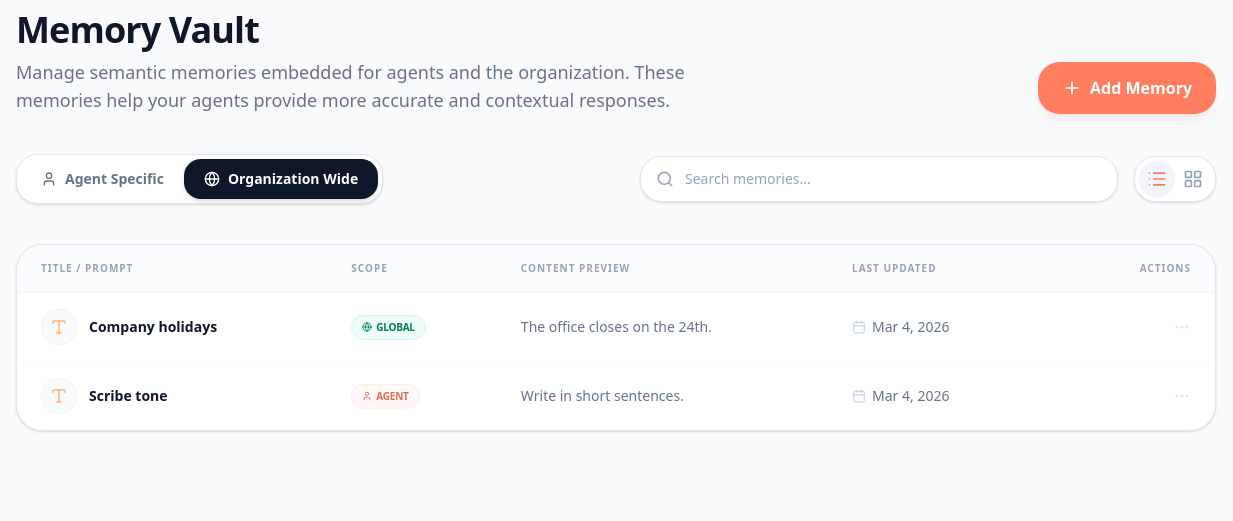
Scenario: the memory vault page › search › says what it searched for when nothing matches
The image size is (1233, 521).
Expected: the text "Company holidays" is shown, [89,317,217,337]
Type "zzz" into the field with placeholder "Search memories..." at (879, 179), box [640,156,1118,202]
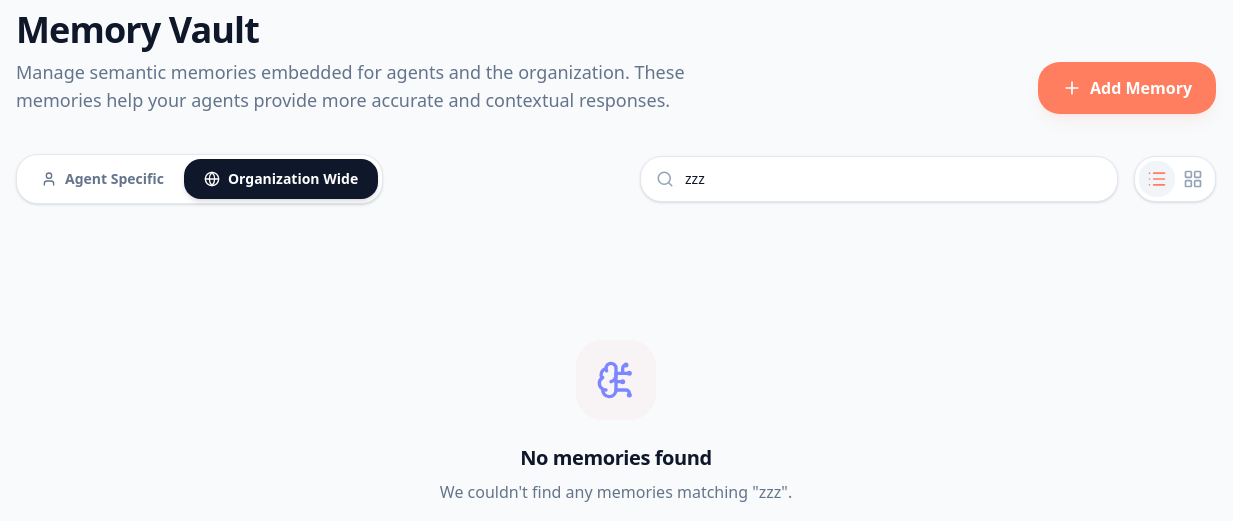
Expected: the text "We couldn't find any memories matching \"zzz\"." is shown, [440,480,792,504]
